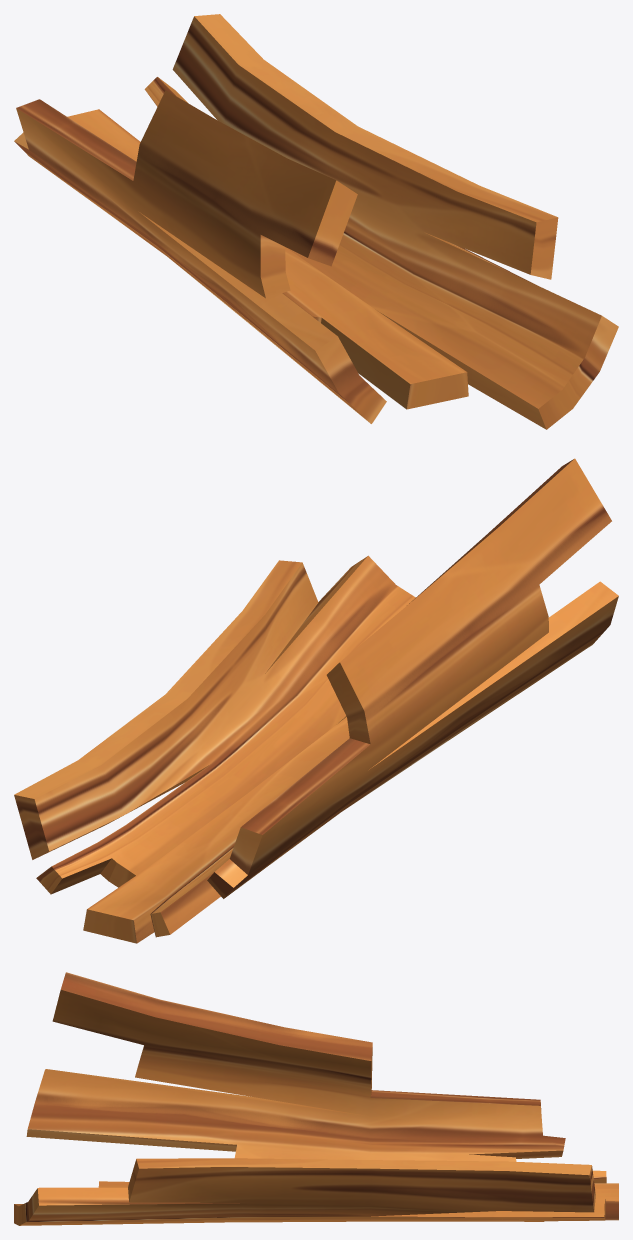
The model's file is SM_ENV_TREE_trunk_v1_04.fbx.
3 renders of one model, top to bottom at view 1: azimuth 30°, elevation 25°; view 2: azimuth 150°, elevation 25°; view 3: azimuth 270°, elevation 25°, orthographic. The views are drawn at different scales.
Visible parts, largest first — view 1: SM_ENV_TREE_trunk_v1_04; view 2: SM_ENV_TREE_trunk_v1_04; view 3: SM_ENV_TREE_trunk_v1_04.
Boxes of the visible parts, x1=… form: SM_ENV_TREE_trunk_v1_04: x1=14, y1=14, x2=618, y2=429; SM_ENV_TREE_trunk_v1_04: x1=14, y1=458, x2=618, y2=943; SM_ENV_TREE_trunk_v1_04: x1=14, y1=972, x2=618, y2=1225.
Bounding box in the file's own units: 95.71 × 81.05 × 227.
